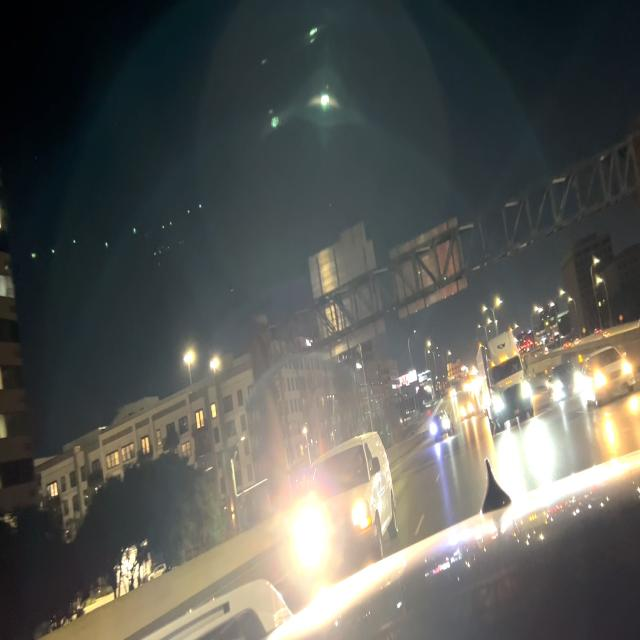back-of-sign: (308, 223, 387, 356), (390, 216, 467, 319)
